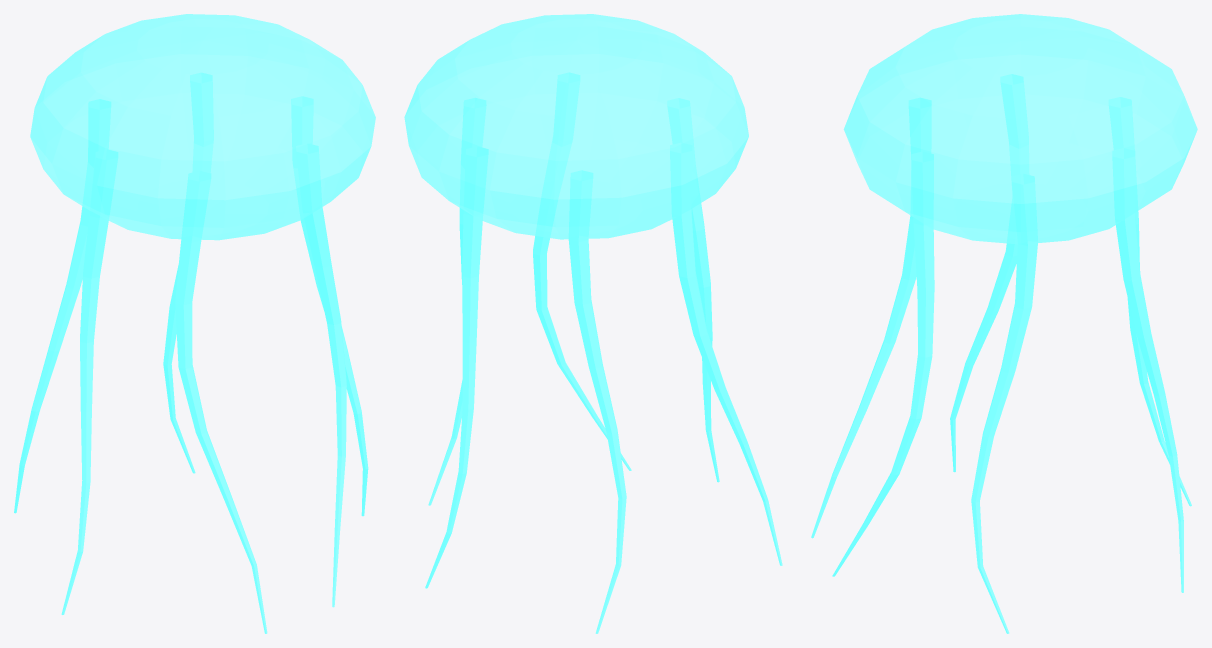
Rendered from light_creature.glb.
3 renders of one model, left to right at view 1: azimuth 30°, elevation 25°; view 2: azimuth 150°, elevation 25°; view 3: azimuth 270°, elevation 25°, orthographic.
Visible parts, largest first — view 1: ENV_LIGHT_CREATURE_01; view 2: ENV_LIGHT_CREATURE_01; view 3: ENV_LIGHT_CREATURE_01.
Boxes of the visible parts, x1,y1,x2,y2 form: ENV_LIGHT_CREATURE_01: [14, 14, 375, 633]; ENV_LIGHT_CREATURE_01: [404, 14, 782, 633]; ENV_LIGHT_CREATURE_01: [811, 14, 1197, 633].
Size of the model in its own units: 13.07 by 19.3 by 13.1.
